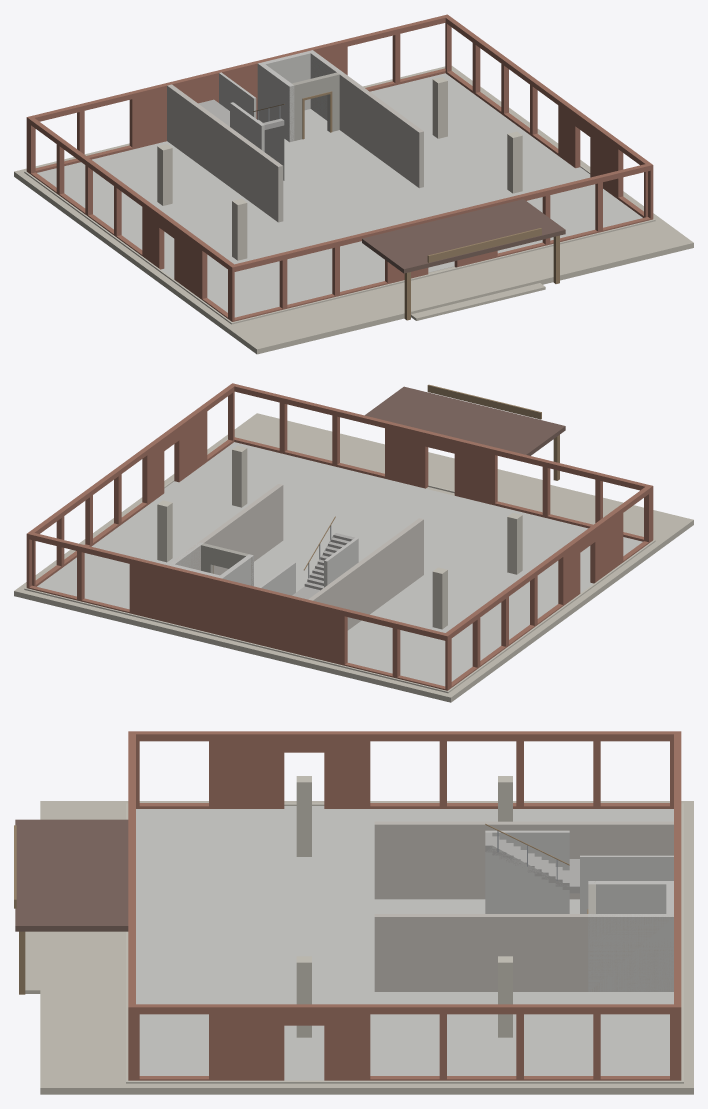
The model's file is brick-lobby.skyline-v2.lod0.glb.
3 renders of one model, top to bottom at view 1: azimuth 30°, elevation 25°; view 2: azimuth 150°, elevation 25°; view 3: azimuth 270°, elevation 25°, orthographic. The views are drawn at different scales.
Visible parts, largest first — view 1: brick-lobby; view 2: brick-lobby; view 3: brick-lobby.
Boxes of the visible parts, x1,y1,x2,y2 form: brick-lobby: (14, 14, 693, 354); brick-lobby: (14, 383, 693, 702); brick-lobby: (14, 731, 693, 1094).
Bounding box in the file's own units: 27 × 4.89 × 27.05.
